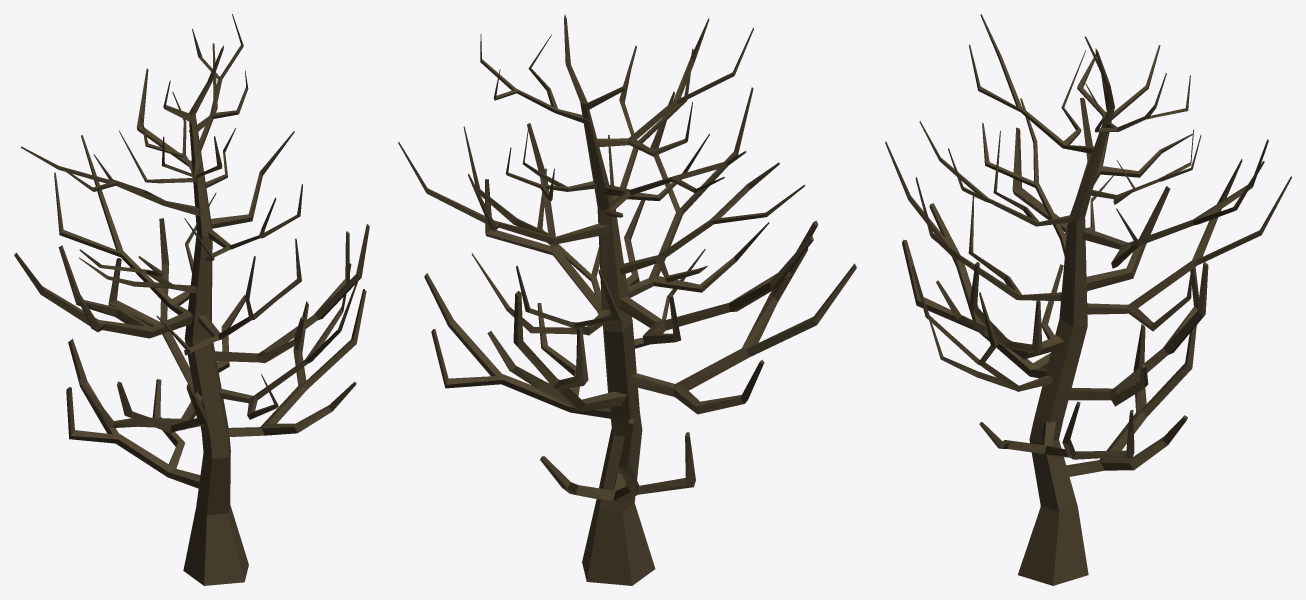
Rendered from adventure_SM_Env_TreeDead_01.gltf.
3 views of the same model, side by side, from view 1: azimuth 30°, elevation 25°; view 2: azimuth 150°, elevation 25°; view 3: azimuth 270°, elevation 25° (orthographic). The views are drawn at different scales.
Visible parts, largest first — view 1: SM_Env_TreeDead_01; view 2: SM_Env_TreeDead_01; view 3: SM_Env_TreeDead_01.
Part boxes in pixels (<box>): SM_Env_TreeDead_01: <box>14,14,369,585</box>; SM_Env_TreeDead_01: <box>398,14,856,585</box>; SM_Env_TreeDead_01: <box>885,14,1291,585</box>.
Size of the model in its own units: 4.74 by 6.57 by 4.53.
Materials: 1 (1 with a texture image).
